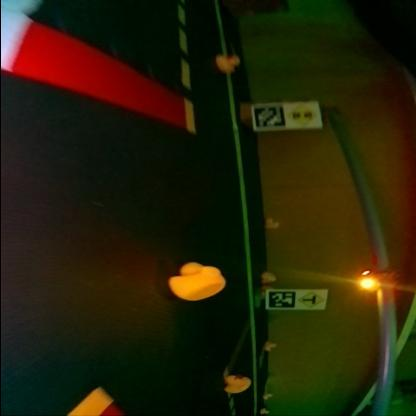Duckie: (169, 262, 225, 298), (215, 54, 240, 73), (224, 374, 250, 392), (261, 271, 275, 282), (266, 218, 277, 228), (266, 340, 275, 348), (264, 392, 272, 398), (262, 408, 268, 414)
Intersection sign: (299, 289, 325, 308)
QR code: (254, 104, 286, 128), (268, 290, 296, 307)
Signal sign: (288, 102, 316, 127)
Traffic light: (355, 268, 397, 289)
